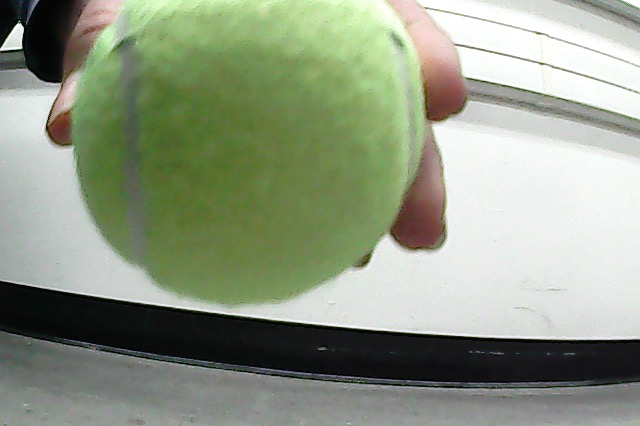ball: (70, 4, 429, 315)
